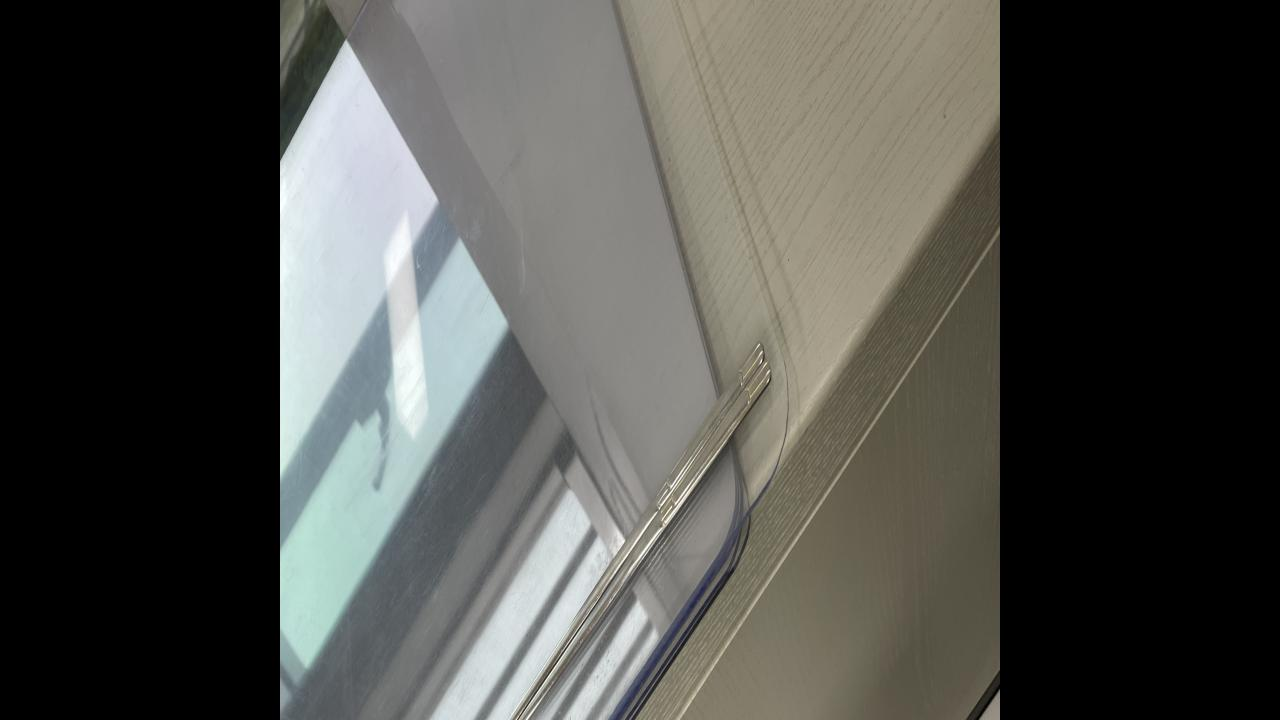chopstick: (502, 337, 768, 720)
